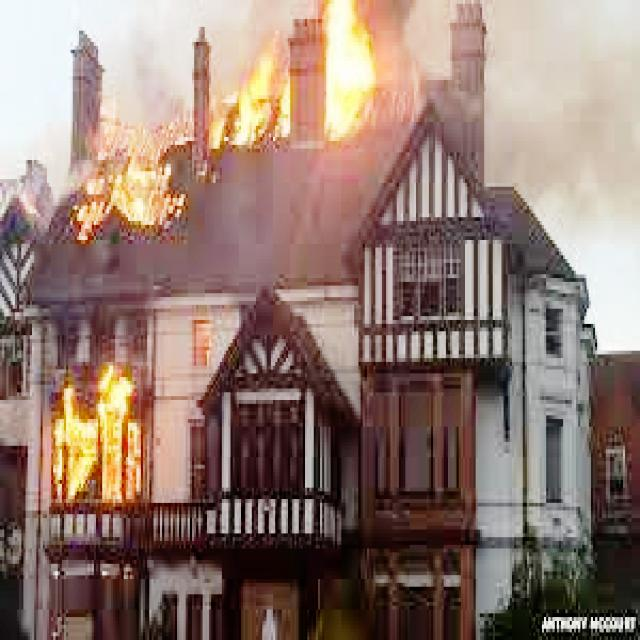api: (59, 104, 206, 245), (40, 356, 153, 516), (319, 1, 428, 138), (206, 28, 323, 150)
